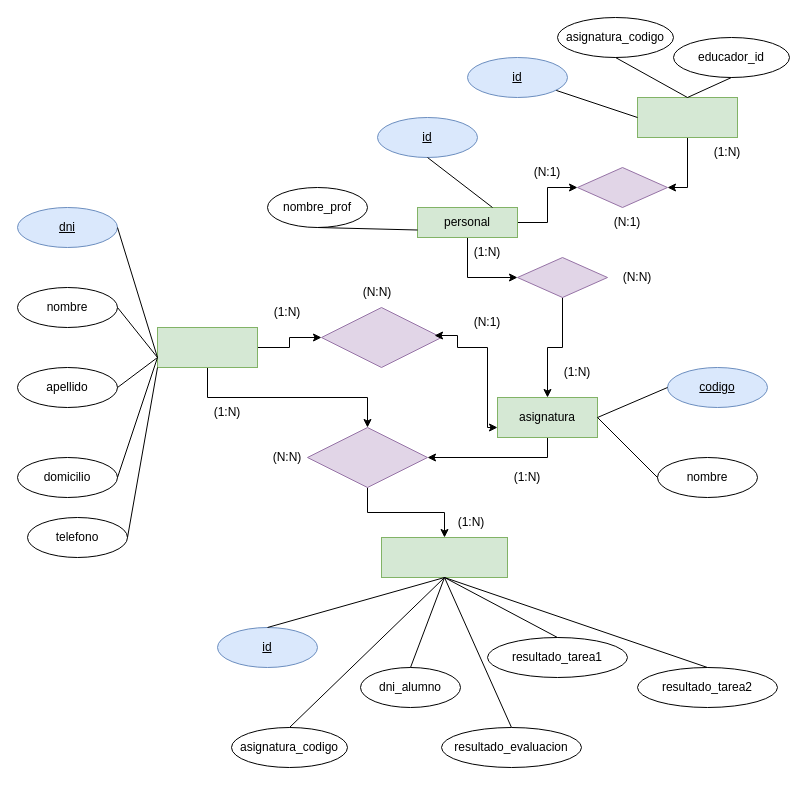
Some shapes in this 807 by 785 pixel diagram are drawn without their labels. The centre of each missing label's shape, as x and y in pixels:
"alumno" belongs at (207,347).
"catedra" belongs at (687,117).
"cursa" belongs at (381,337).
"forma" belongs at (622,187).
"genera" belongs at (367,457).
"imparte" belongs at (562,277).
"registro_academico" belongs at (444,557).
